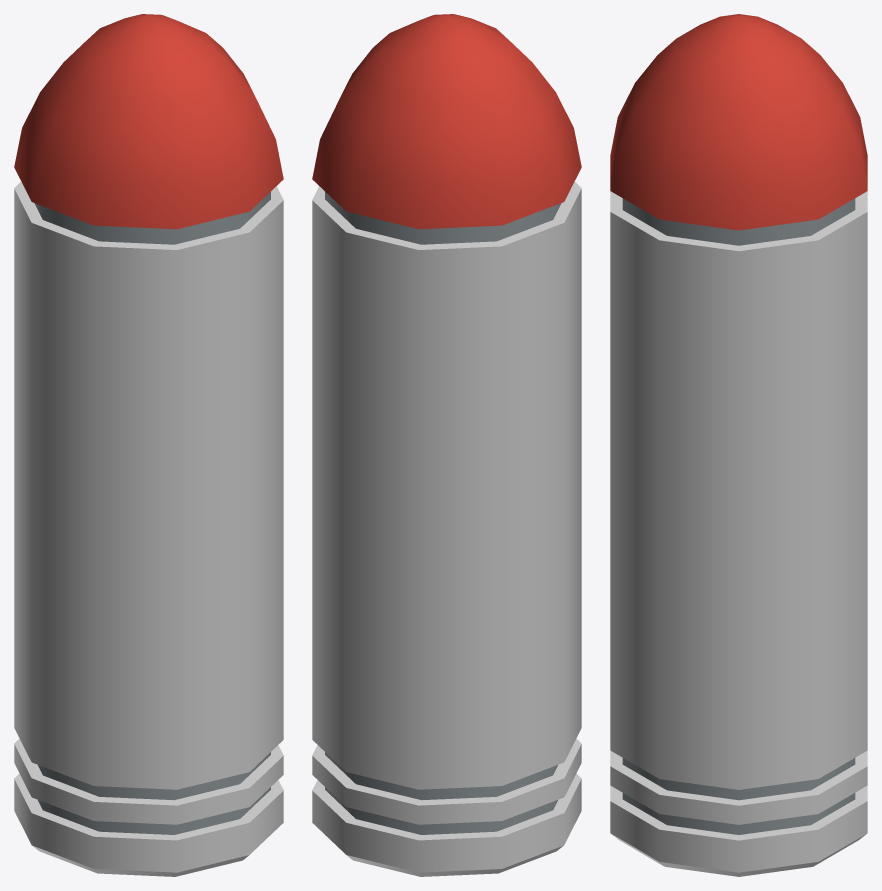
File: Rocket.fbx
3 renders of one model, left to right at view 1: azimuth 30°, elevation 25°; view 2: azimuth 150°, elevation 25°; view 3: azimuth 270°, elevation 25°, orthographic.
Parts seen in each view (by area): view 1: pSphere2; view 2: pSphere2; view 3: pSphere2.
Part boxes in pixels (x1,y1,x2,y2): pSphere2: (14, 14, 283, 876); pSphere2: (312, 14, 581, 876); pSphere2: (610, 14, 867, 876).
Bounding box in the file's own units: 7.87 × 25.89 × 7.48.
